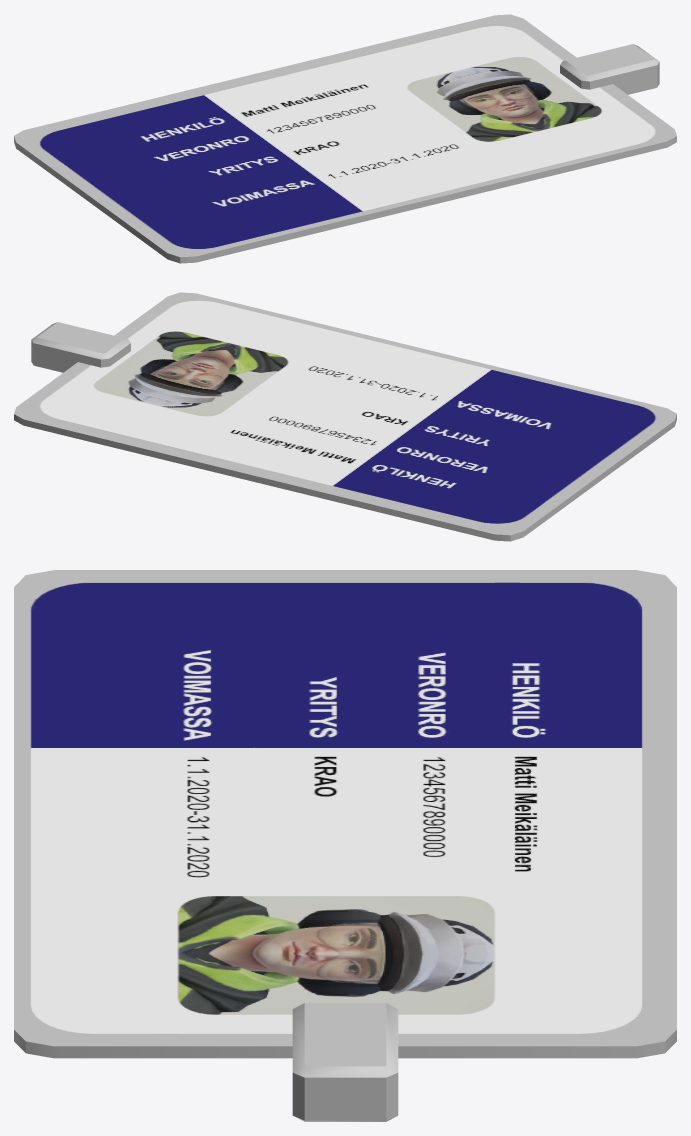
File: IdCard.FBX
3 views of the same model, one above another, from view 1: azimuth 30°, elevation 25°; view 2: azimuth 150°, elevation 25°; view 3: azimuth 270°, elevation 25° (orthographic). The views are drawn at different scales.
Visible parts, largest first — view 1: IdCard; view 2: IdCard; view 3: IdCard.
Part boxes in pixels (<box>): IdCard: <box>14,14,676,263</box>; IdCard: <box>14,292,676,541</box>; IdCard: <box>14,570,676,1121</box>.
Bounding box in the file's own units: 9.33 × 5 × 0.4639.
